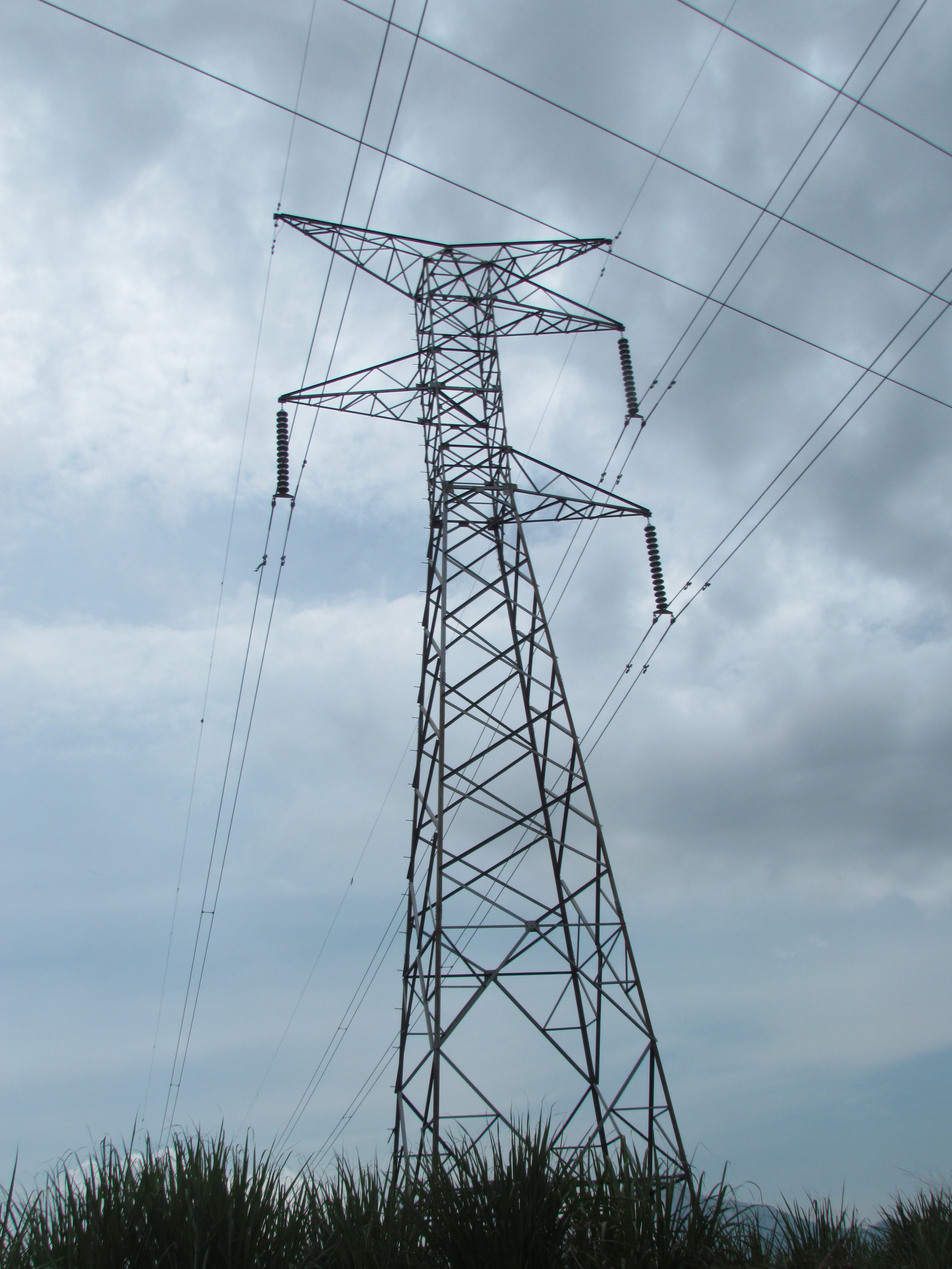insulator: (643, 520, 677, 624), (270, 400, 295, 510), (615, 325, 643, 422)
